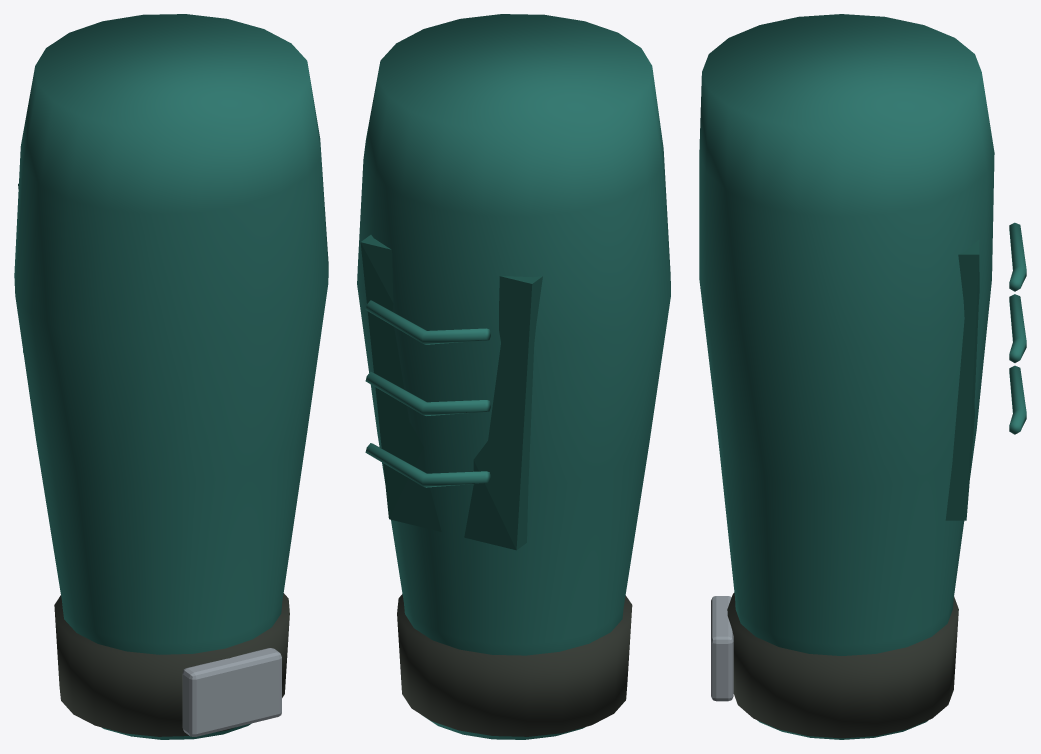
Rendered from CharArmLow.glb.
The picture shows the model from 3 angles, left to right: view 1: azimuth 30°, elevation 25°; view 2: azimuth 150°, elevation 25°; view 3: azimuth 270°, elevation 25°; orthographic projection.
Parts seen in each view (by area): view 1: CharArmLow; view 2: CharArmLow; view 3: CharArmLow.
Part boxes in pixels (<box>): CharArmLow: <box>14,14,328,739</box>; CharArmLow: <box>357,14,670,739</box>; CharArmLow: <box>699,14,1026,739</box>.
Bounding box in the file's own units: 0.128 × 0.271 × 0.1286.
